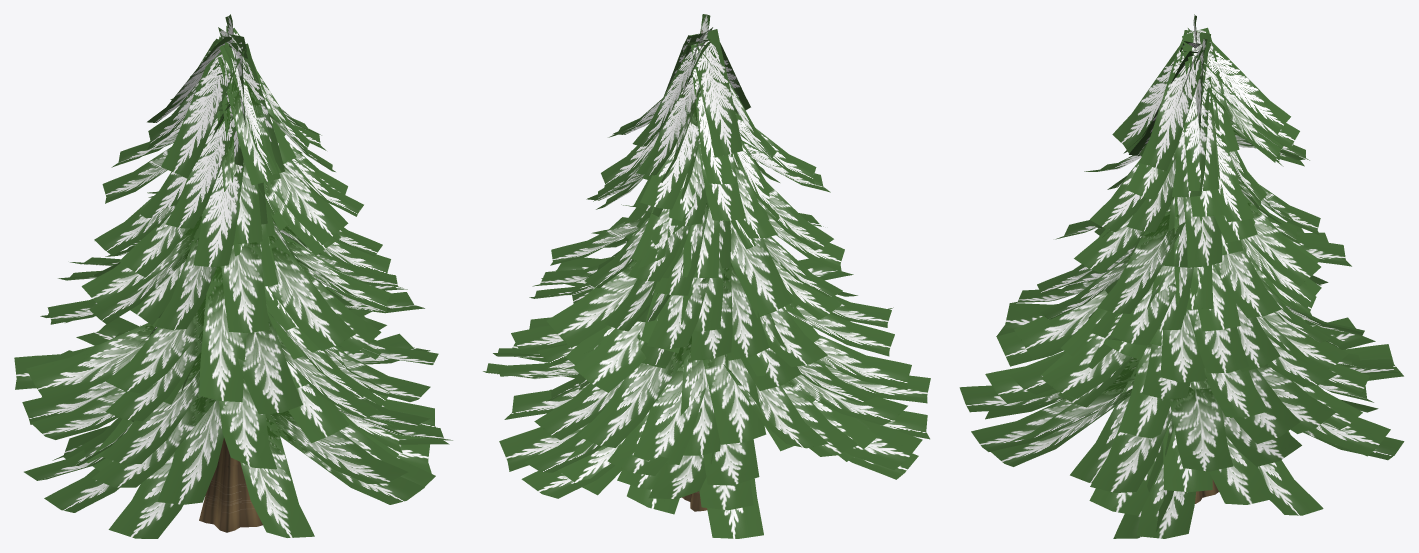
Rendered from Stylized_Conifer_Winter.fbx.
3 views of the same model, side by side, from view 1: azimuth 30°, elevation 25°; view 2: azimuth 150°, elevation 25°; view 3: azimuth 270°, elevation 25° (orthographic). The views are drawn at different scales.
Visible parts, largest first — view 1: Stylized_Conifer_Winter; view 2: Stylized_Conifer_Winter; view 3: Stylized_Conifer_Winter.
Part boxes in pixels (left/top/right/bottom): Stylized_Conifer_Winter: left=14, top=14, right=452, bottom=538; Stylized_Conifer_Winter: left=483, top=14, right=930, bottom=538; Stylized_Conifer_Winter: left=959, top=14, right=1404, bottom=538.
Bounding box in the file's own units: 16.64 × 16.86 × 19.93.
3 materials, 3 textured.
